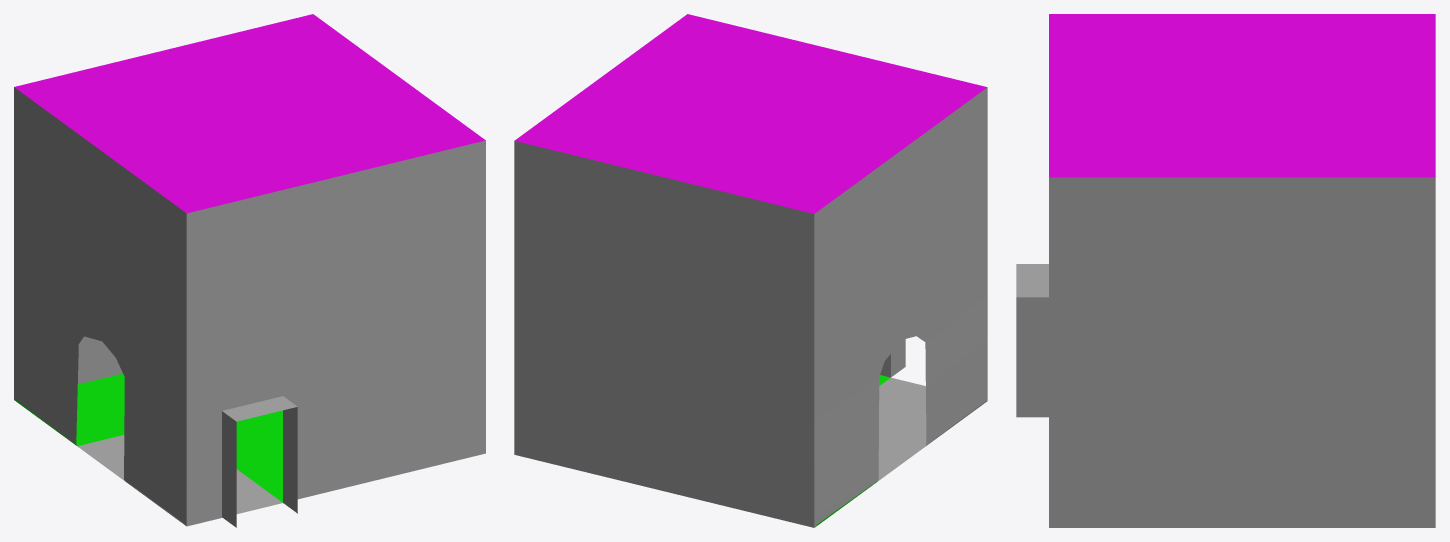
File: room.fbx
The picture shows the model from 3 angles, left to right: view 1: azimuth 30°, elevation 25°; view 2: azimuth 150°, elevation 25°; view 3: azimuth 270°, elevation 25°; orthographic projection. The views are drawn at different scales.
Parts seen in each view (by area): view 1: backRoom; view 2: backRoom; view 3: backRoom.
Boxes of the visible parts, x1,y1,x2,y2 form: backRoom: (14,14,485,527); backRoom: (514,14,987,527); backRoom: (1016,14,1435,527).
Bounding box in the file's own units: 15.55 × 15.5 × 16.82.
